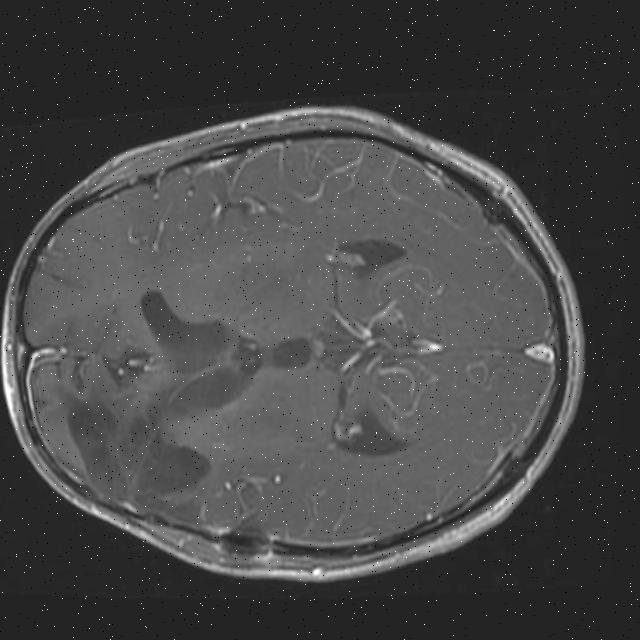Glioma: (58, 383, 217, 506)
